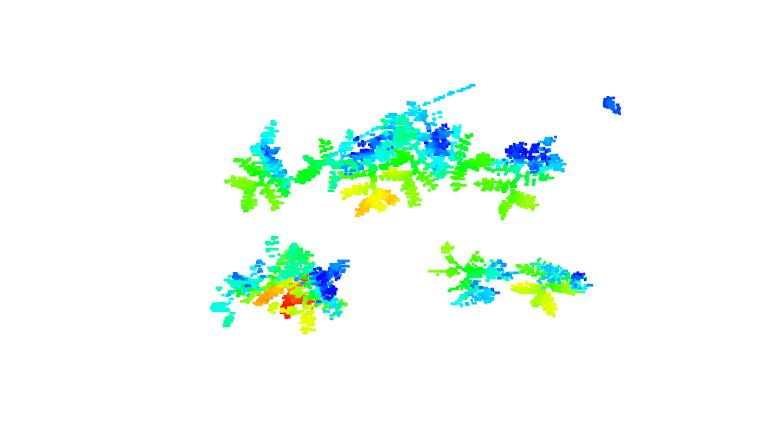chickpea: (212, 227, 304, 331), (388, 102, 476, 208), (300, 126, 399, 218), (472, 137, 569, 219), (220, 117, 299, 212), (424, 238, 517, 306), (287, 258, 371, 328), (510, 258, 601, 317)
